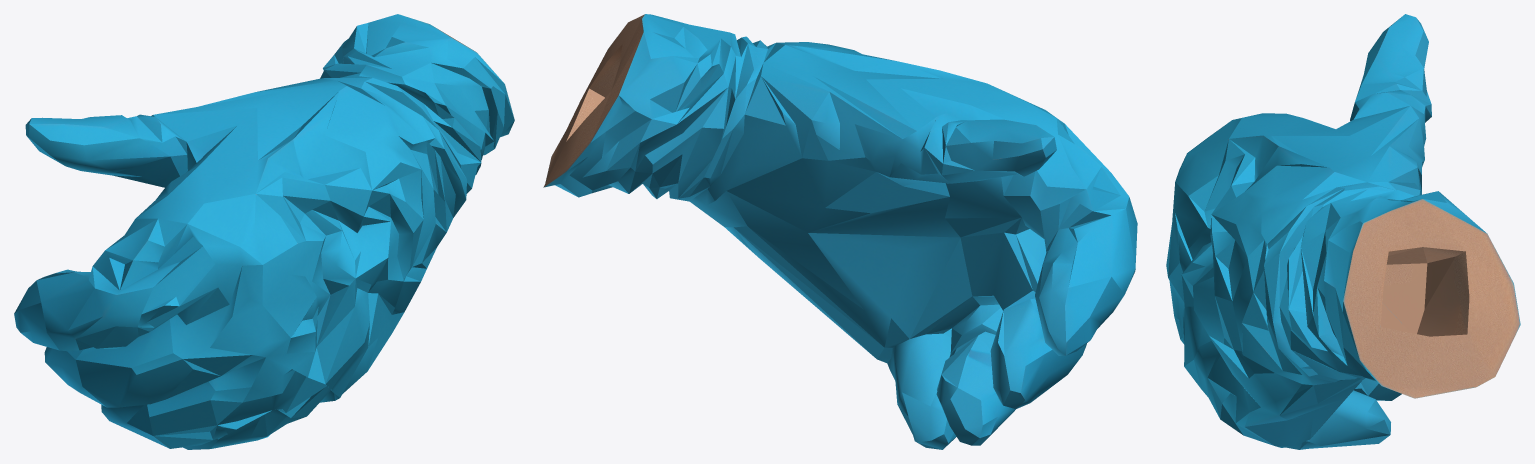
Rendered from Medical_glove_leak.glb.
3 renders of one model, left to right at view 1: azimuth 30°, elevation 25°; view 2: azimuth 150°, elevation 25°; view 3: azimuth 270°, elevation 25°, orthographic. The views are drawn at different scales.
Bounding box in the file's own units: 1.9 × 1.27 × 1.1.
Materials: 1 (1 with a texture image).
